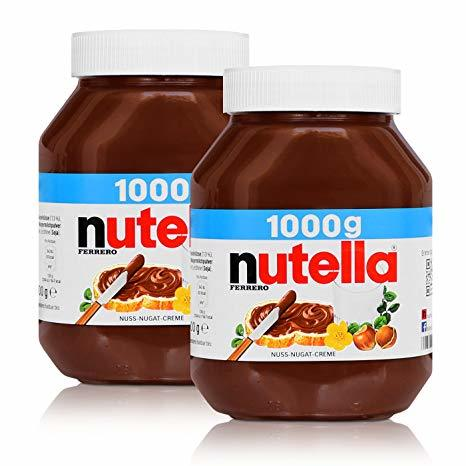nutella: (188, 64, 432, 421), (38, 29, 249, 386)
